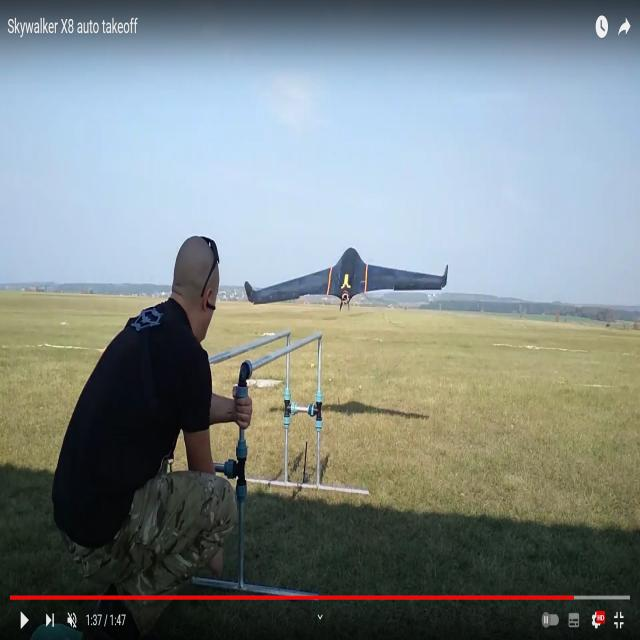iha: (244, 250, 449, 313)
